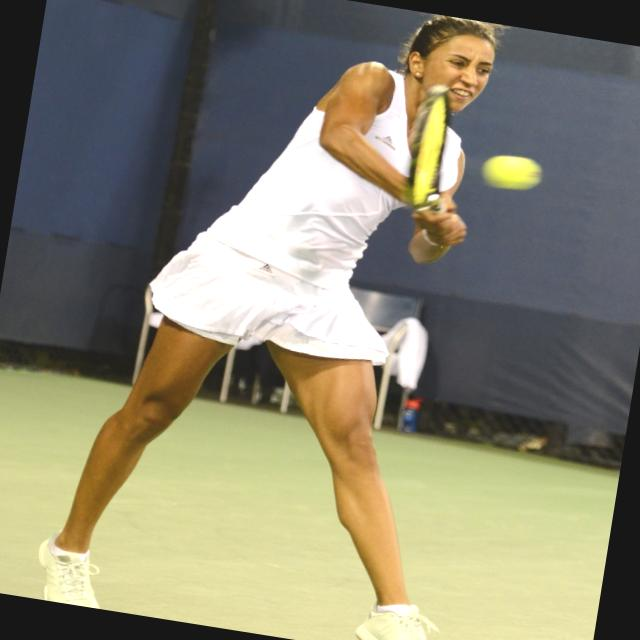Tennis Ball: (481, 151, 544, 195)
